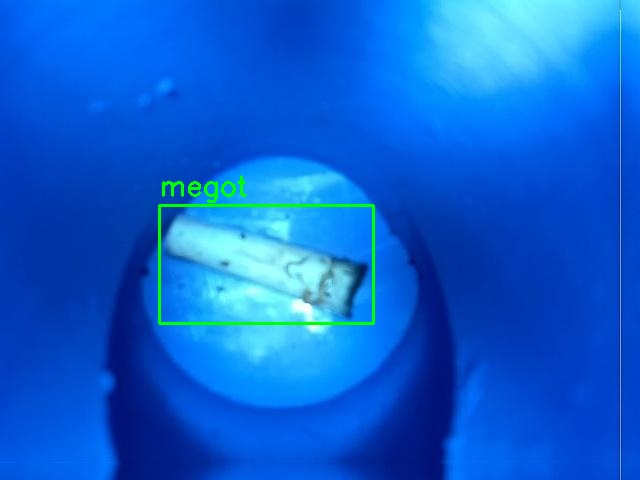megot: (159, 205, 373, 323)
